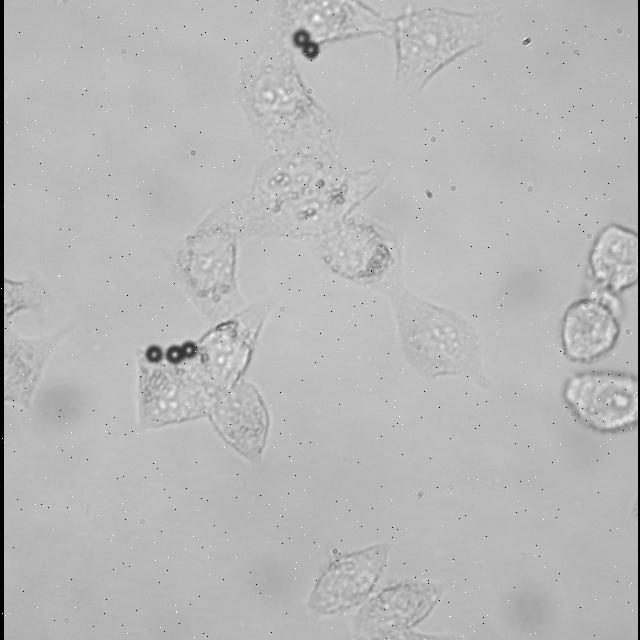microbeads: (144, 340, 164, 366), (290, 27, 312, 49), (178, 338, 200, 359), (300, 41, 322, 60), (164, 344, 182, 364)
